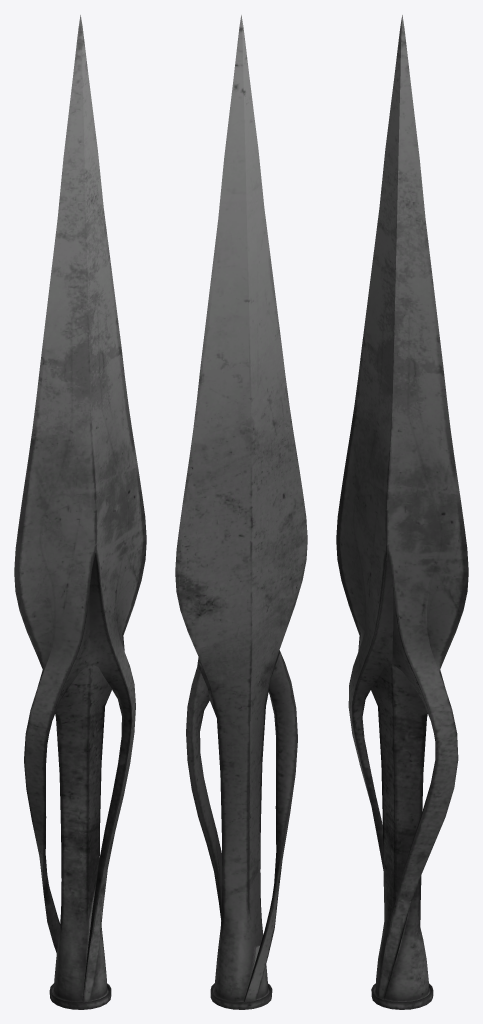
Rendered from wm_rivendell_spear_a01_silver_blade.fbx.
3 views of the same model, side by side, from view 1: azimuth 30°, elevation 25°; view 2: azimuth 210°, elevation 25°; view 3: azimuth 330°, elevation 25° (orthographic).
Parts seen in each view (by area): view 1: wm_rivendell_spear_a01_silver_blade; view 2: wm_rivendell_spear_a01_silver_blade; view 3: wm_rivendell_spear_a01_silver_blade.
Boxes of the visible parts, x1,y1,x2,y2 form: wm_rivendell_spear_a01_silver_blade: [14, 15, 146, 1009]; wm_rivendell_spear_a01_silver_blade: [175, 15, 307, 1009]; wm_rivendell_spear_a01_silver_blade: [336, 15, 468, 1009].
Bounding box in the file's own units: 0.081 × 0.0329 × 0.5737.
1 material, 1 textured.
